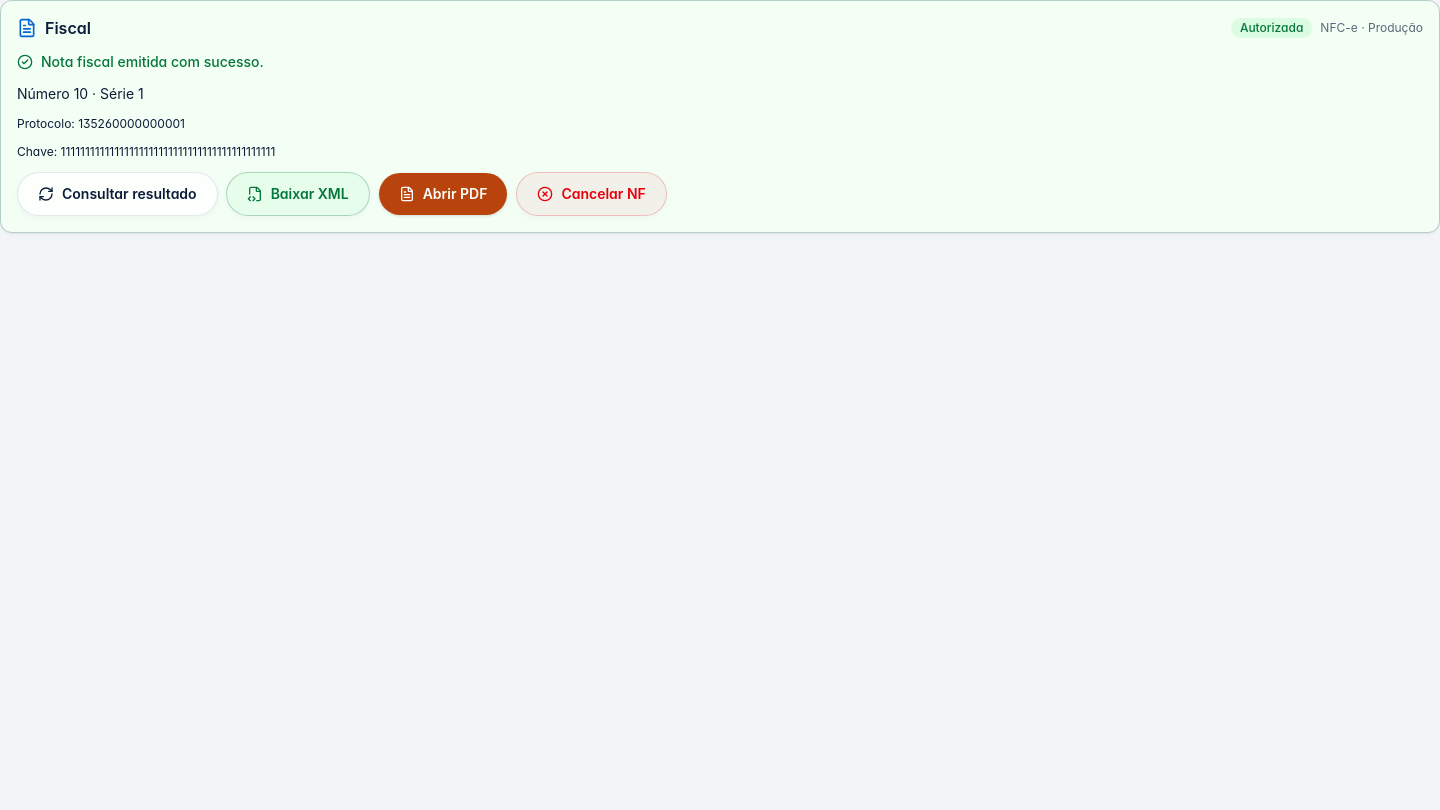
exibe cancelamento confirmado e retira a ação de cancelar
Click the button "Cancelar NF". click: point(592, 194)
box: top-left (516, 172), bottom-right (667, 216)
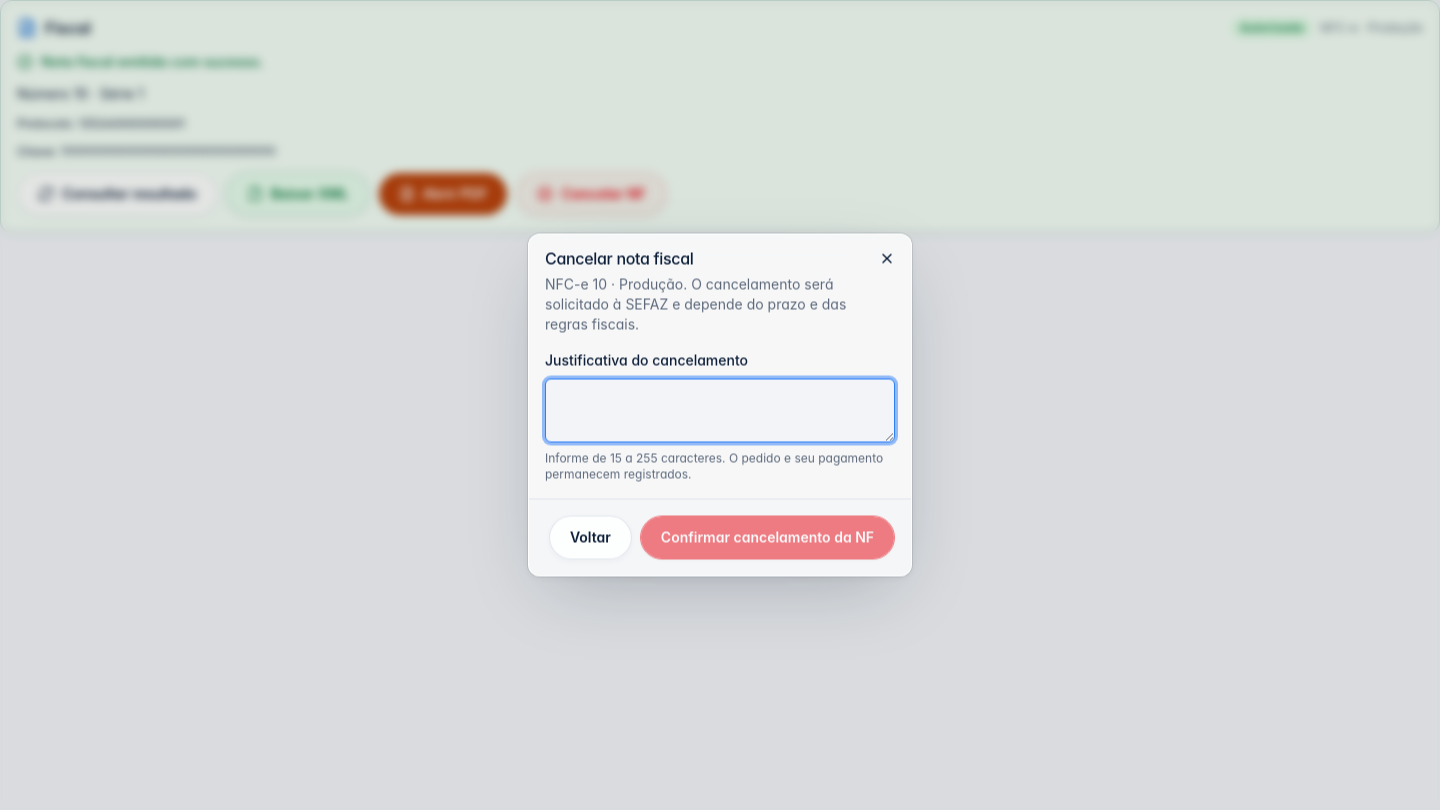
Type "Pedido duplicado pelo cliente." into the text box. click: point(720, 410)
box: top-left (545, 378), bottom-right (895, 442)
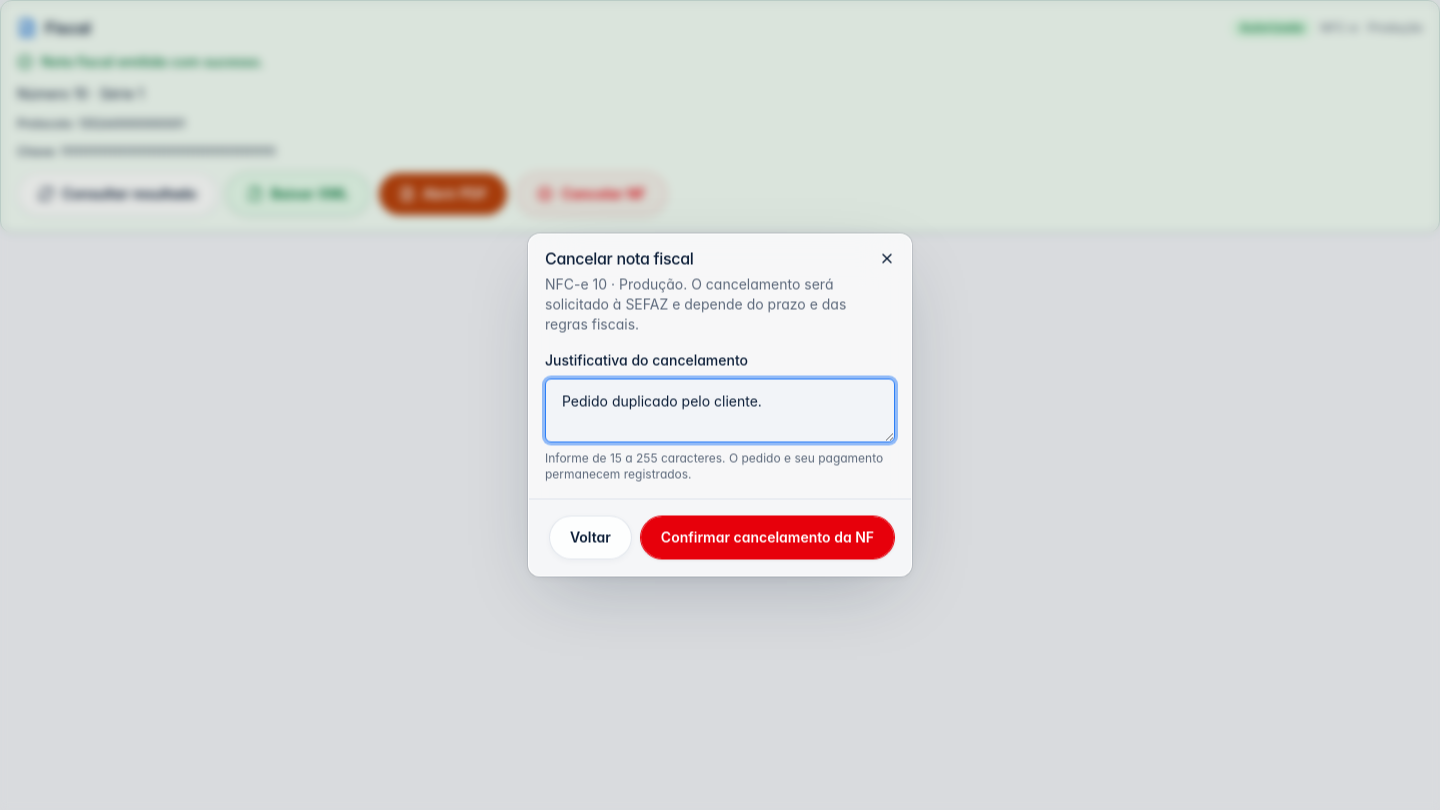
Click the button "Confirmar cancelamento da NF". click: point(767, 538)
box: top-left (640, 516), bottom-right (895, 560)
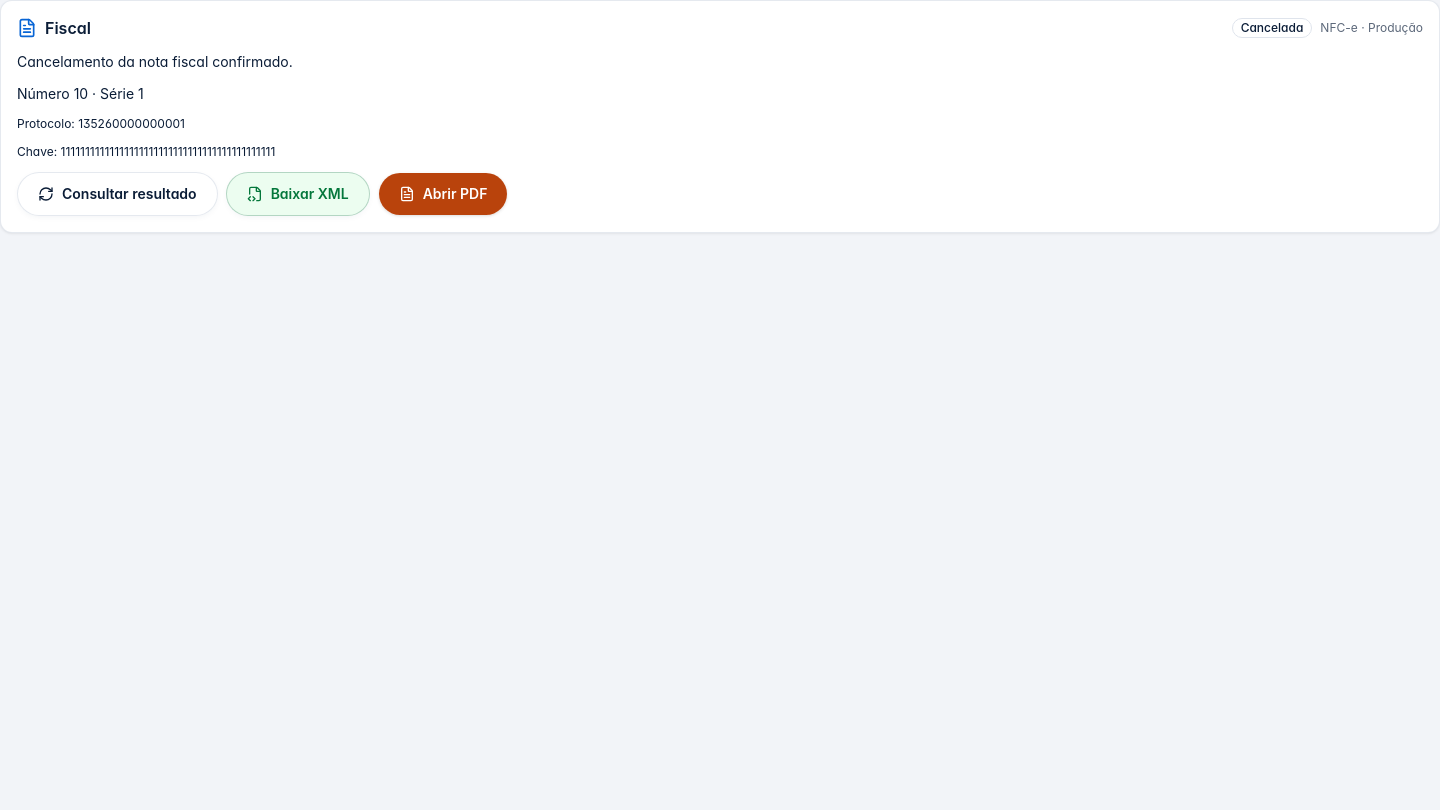
Expected: the link "Baixar XML" is shown, top-left (226, 172), bottom-right (370, 216)
Expected: the text "Cancelamento da nota fiscal confirmado." is shown, top-left (17, 53), bottom-right (293, 70)
Expected: the button "Cancelar NF" is gone
